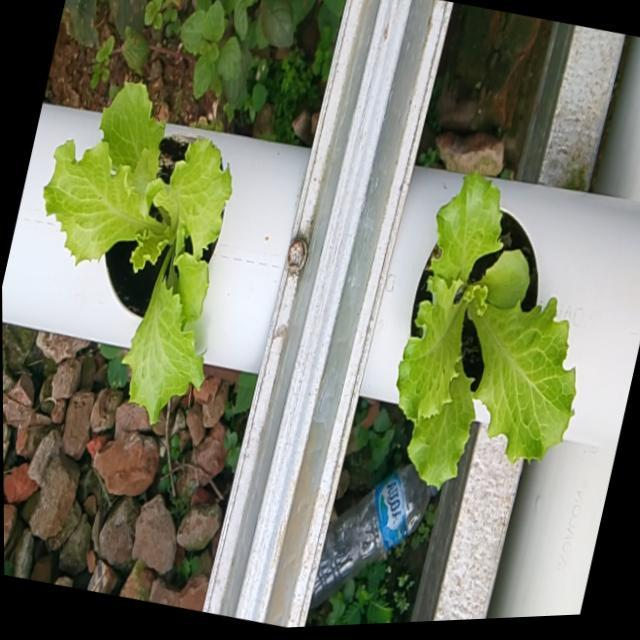Baby: (39, 80, 227, 422), (391, 169, 571, 489)
